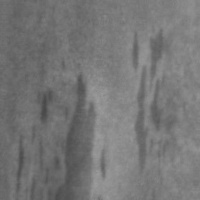inclusion: (123, 24, 183, 174), (57, 67, 117, 199), (13, 119, 64, 195), (36, 83, 59, 129)
